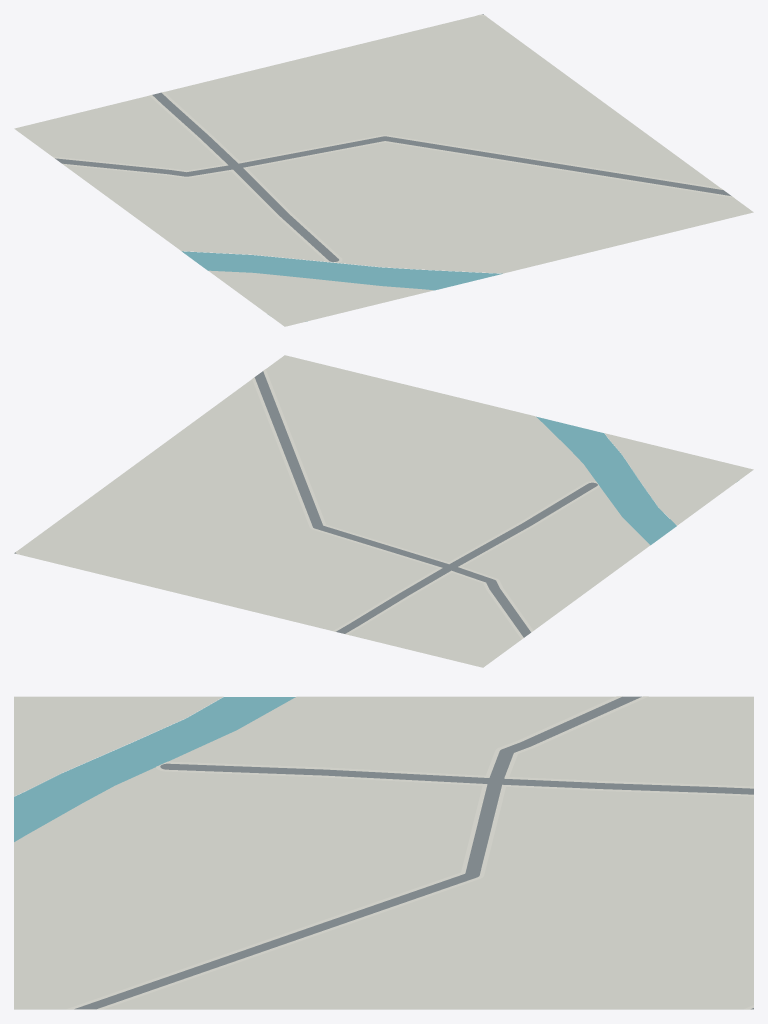
3 views of the same model, one above another, from view 1: azimuth 30°, elevation 25°; view 2: azimuth 150°, elevation 25°; view 3: azimuth 270°, elevation 25° (orthographic). The views are drawn at different scales.
Parts seen in each view (by area): view 1: city; view 2: city; view 3: city.
Part boxes in pixels (bbox=[...]): city: bbox=[14, 14, 753, 326]; city: bbox=[14, 355, 753, 667]; city: bbox=[14, 696, 753, 1009].
Size of the model in its own units: 500 by 0.4 by 500.
